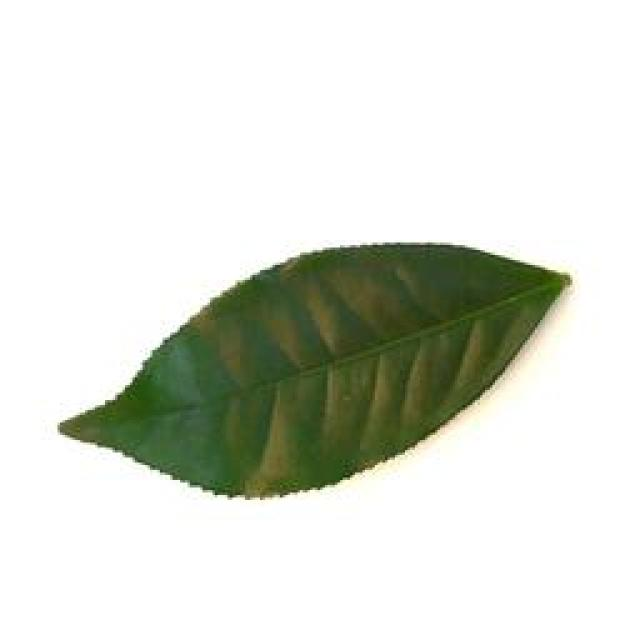Healthy: (49, 233, 579, 501)
